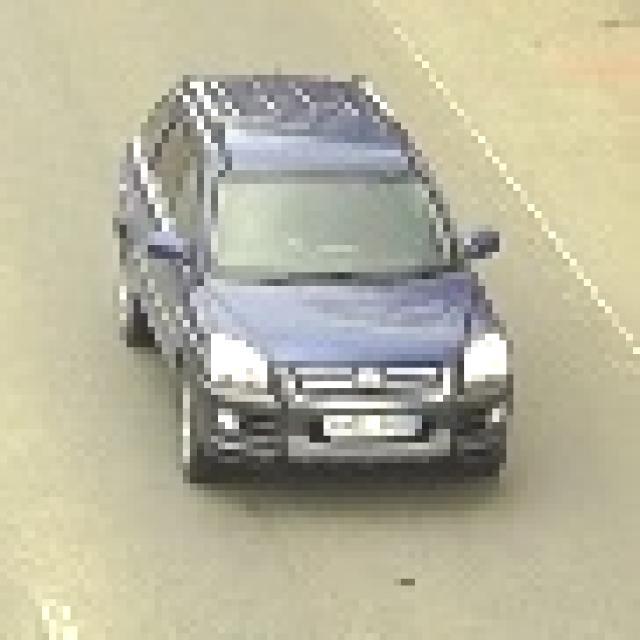SUV: (135, 89, 503, 480)
